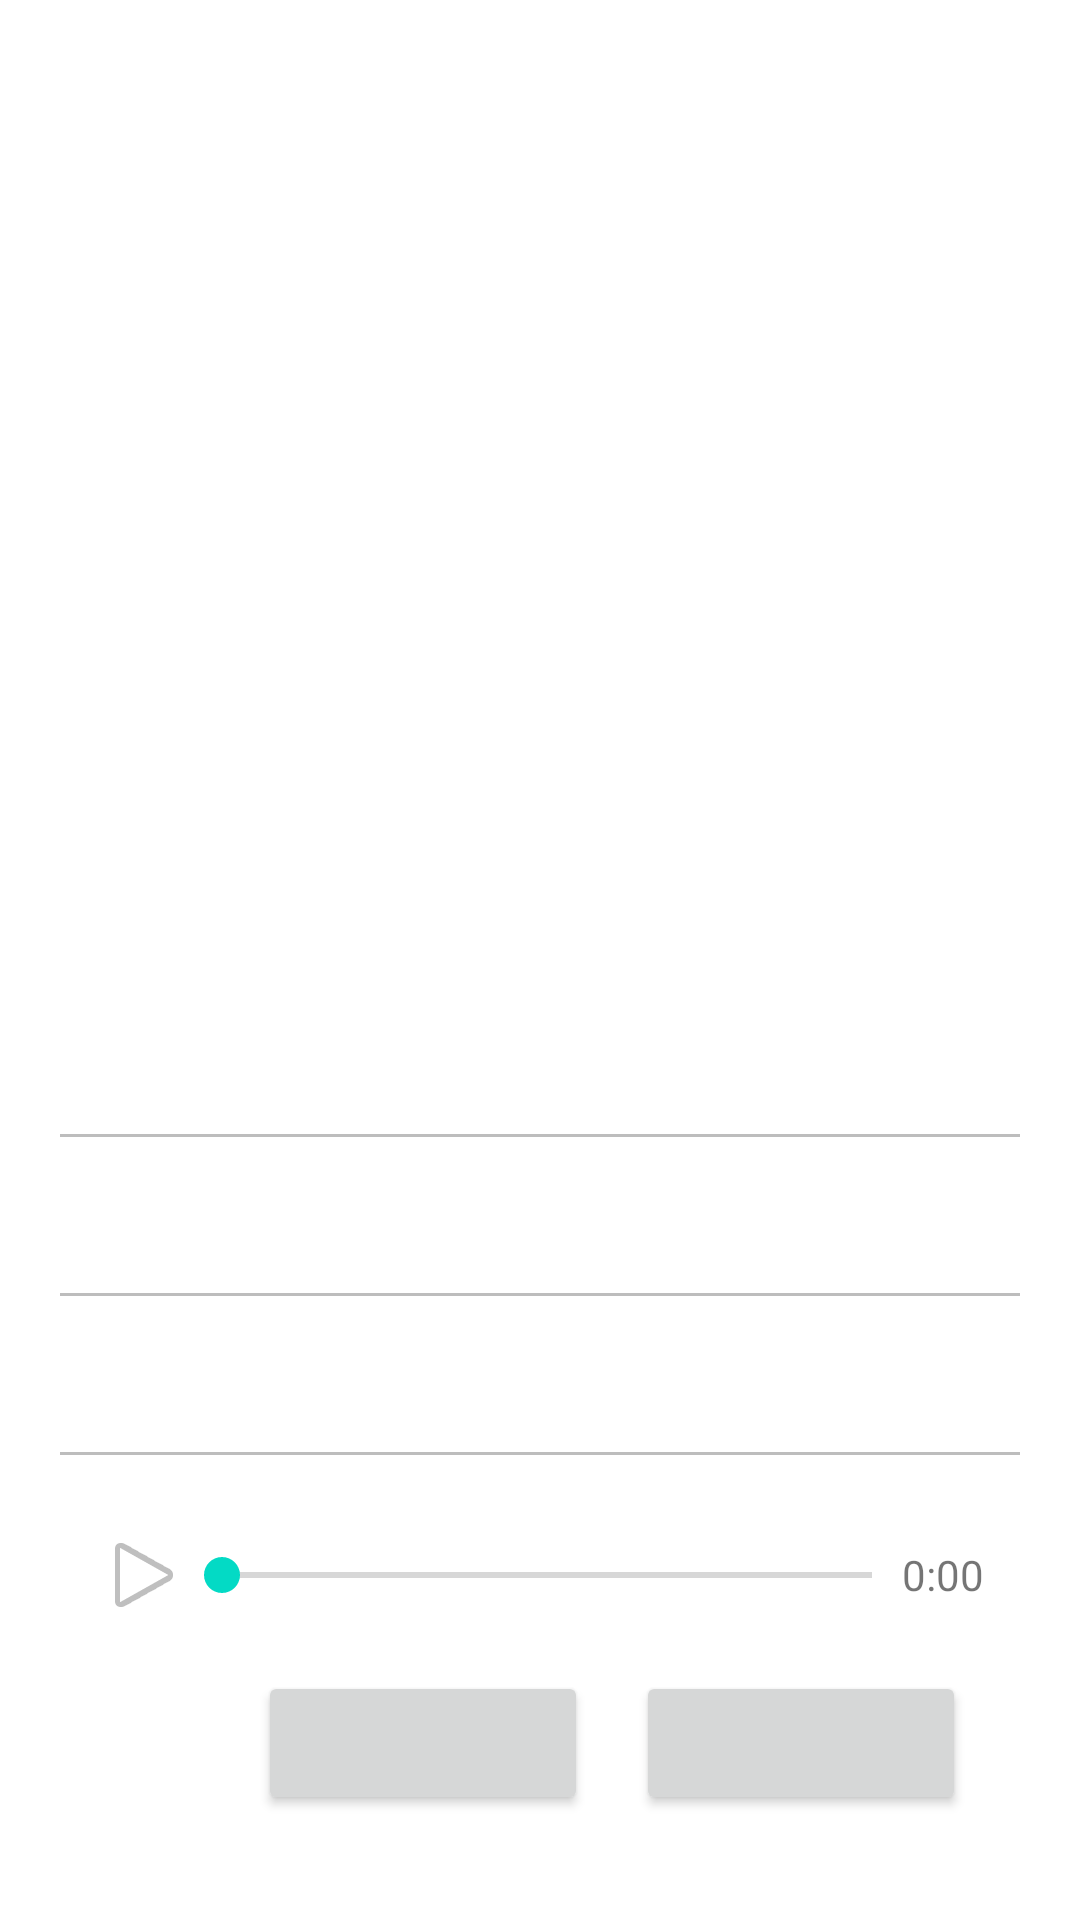

Icon click points for this 1080w x 1920h phone screenshot, format (x=x, y=y):
play: (x=144, y=1575)
